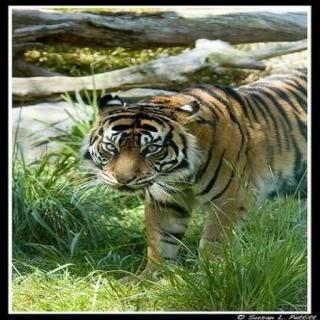Tiger: (85, 64, 308, 285)
